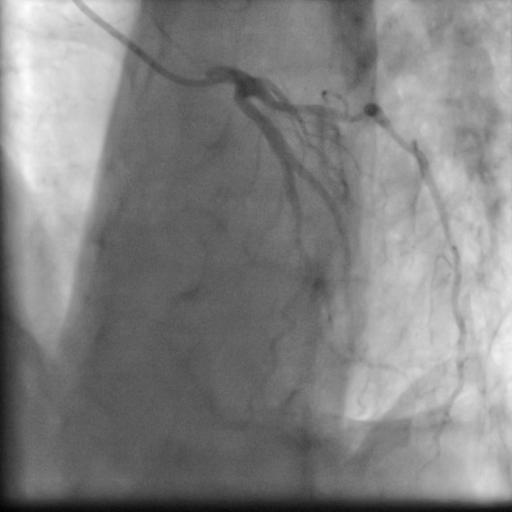Stenosis: (340, 104, 368, 128)
